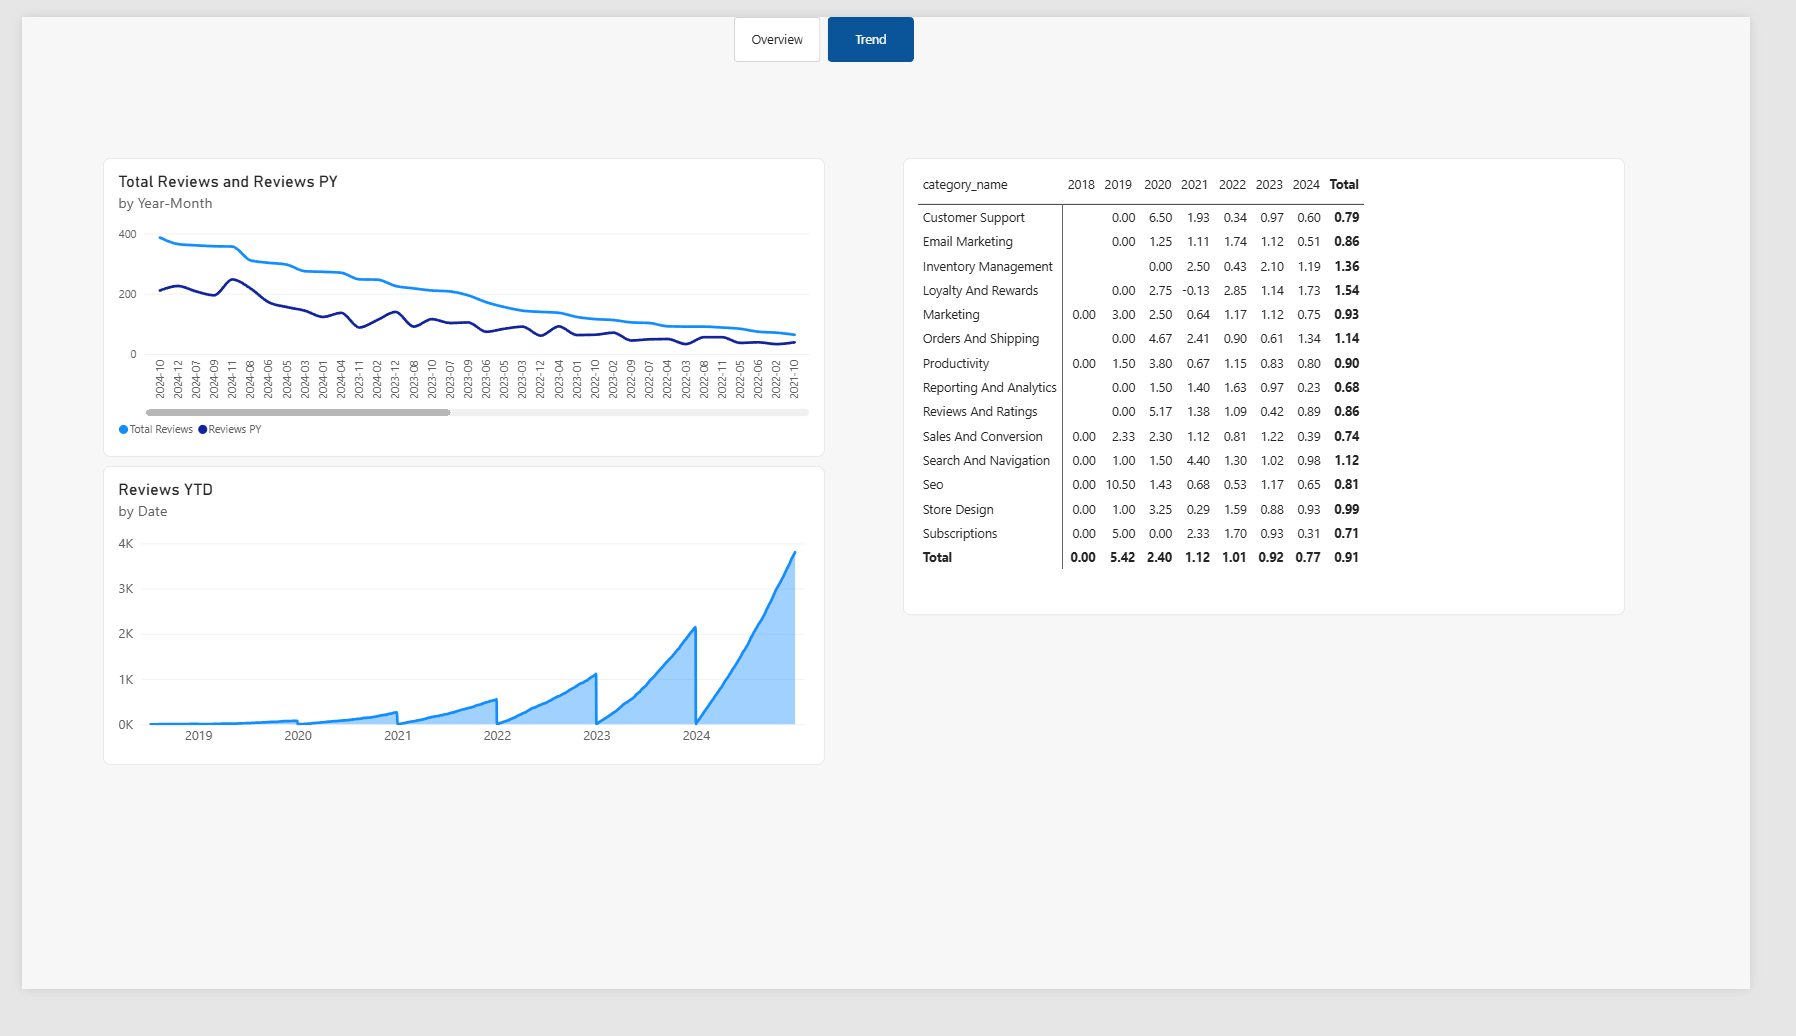

The page's visual inventory and layout, read from the dashboard file:
{"tool":"powerbi","page":{"name":"Trend","canvas":[1920,1080],"ordinal":1},"visuals":[{"type":"pageNavigator","box":[791.6,0,200,50],"z":0},{"type":"lineChart","fields":{"Category":["dim_date.Year-Month"],"Y":["apps.Total Reviews","apps.Reviews PY"]},"box":[90,156.9,801.6,331.8],"z":1},{"type":"areaChart","fields":{"Category":["dim_date.Date"],"Y":["apps.Reviews YTD"]},"box":[90,499,802,332],"z":2},{"type":"pivotTable","fields":{"Columns":["dim_date.Year"],"Rows":["apps.category_name"],"Values":["apps.Reviews YoY Growth %"]},"box":[978.5,156.9,801.6,507.7],"z":3}]}

Visuals, with their boxes in screenshot pixels (x1, y1, x2, y2), scaled from the page's 1920x1080 canvas onto the 1796x1036 screenshot:
pageNavigator: <region>740, 0, 928, 48</region>
lineChart - dim_date.Year-Month x apps.Total Reviews: <region>84, 151, 834, 469</region>
areaChart - dim_date.Date x apps.Reviews YTD: <region>84, 479, 834, 797</region>
pivotTable - dim_date.Year x apps.category_name: <region>915, 151, 1665, 638</region>
